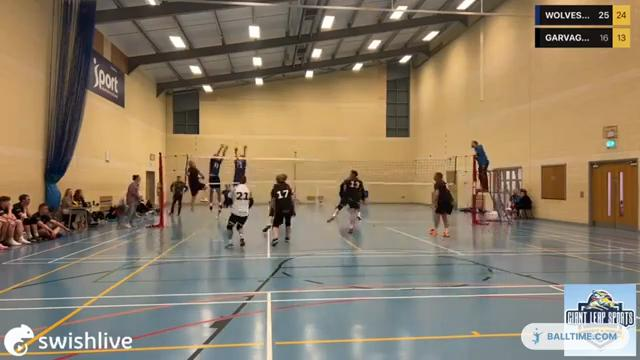attacco: (178, 154, 208, 214)
muro: (204, 140, 226, 215), (232, 137, 248, 186)
